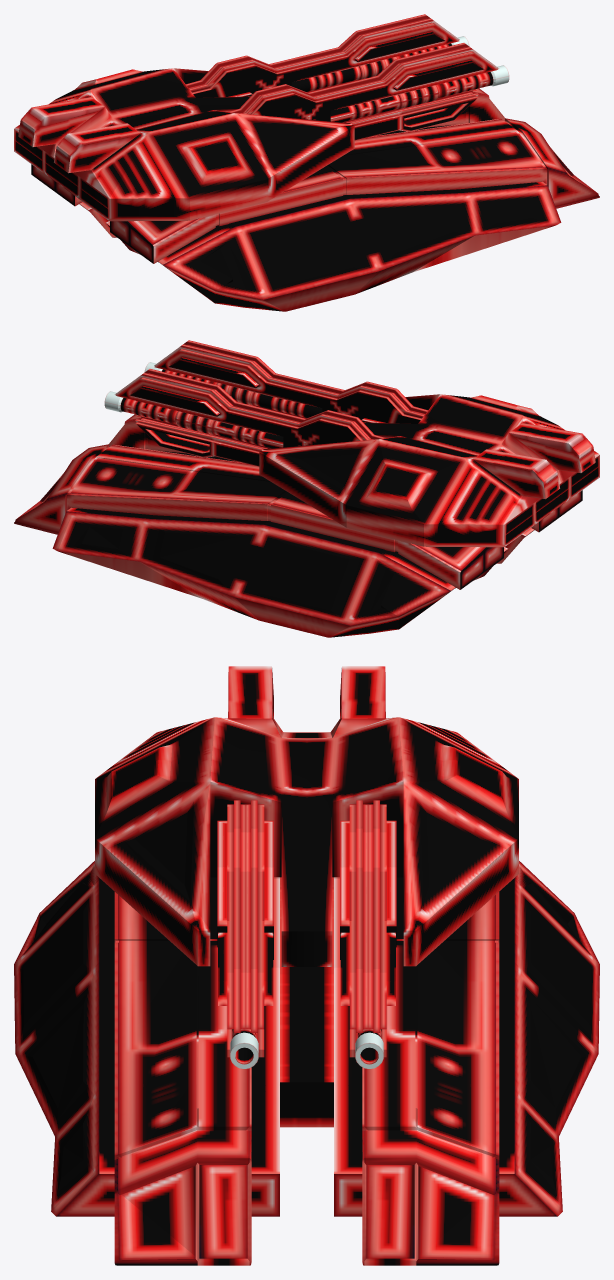
File: tank.obj
The picture shows the model from 3 angles, top to bottom: view 1: azimuth 30°, elevation 25°; view 2: azimuth 150°, elevation 25°; view 3: azimuth 270°, elevation 25°; orthographic projection. The views are drawn at different scales.
Visible parts, largest first — view 1: Box10 Group10 group polySurface2 polySurface1 group1, Line24 group polySurface2 polySurface1 group1, Line26 group polySurface2 polySurface1 group1, Cylinder12 group polySurface2 polySurface1 group1; view 2: Box10 Group10 group polySurface2 polySurface1 group1, Line24 group polySurface2 polySurface1 group1, Line26 group polySurface2 polySurface1 group1, Cylinder12 group polySurface2 polySurface1 group1; view 3: Box10 Group10 group polySurface2 polySurface1 group1, Line24 group polySurface2 polySurface1 group1, Line26 group polySurface2 polySurface1 group1, Cylinder12 group polySurface2 polySurface1 group1.
Boxes of the visible parts, <box> form: Box10 Group10 group polySurface2 polySurface1 group1: <box>31,88,599,311</box>; Line24 group polySurface2 polySurface1 group1: <box>14,68,354,221</box>; Line26 group polySurface2 polySurface1 group1: <box>186,14,498,140</box>; Cylinder12 group polySurface2 polySurface1 group1: <box>291,36,509,122</box>; Box10 Group10 group polySurface2 polySurface1 group1: <box>14,414,582,637</box>; Line24 group polySurface2 polySurface1 group1: <box>259,394,599,547</box>; Line26 group polySurface2 polySurface1 group1: <box>115,340,427,466</box>; Cylinder12 group polySurface2 polySurface1 group1: <box>104,362,322,448</box>; Box10 Group10 group polySurface2 polySurface1 group1: <box>14,861,599,1265</box>; Line24 group polySurface2 polySurface1 group1: <box>95,666,518,966</box>; Line26 group polySurface2 polySurface1 group1: <box>217,800,396,1062</box>; Cylinder12 group polySurface2 polySurface1 group1: <box>230,1029,383,1068</box>.
Size of the model in its own units: 12.06 by 3.68 by 7.85.
